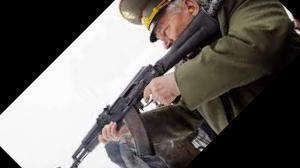larga: (68, 9, 221, 168)
